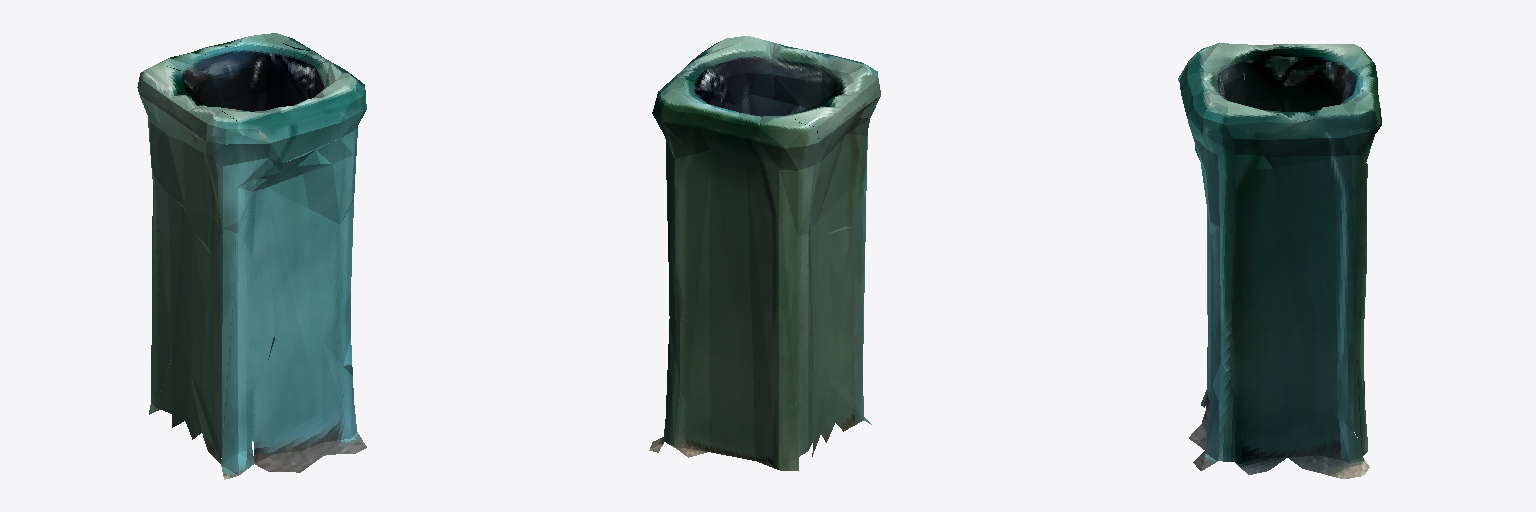
The picture shows the model from 3 angles: view 1: azimuth 30°, elevation 25°; view 2: azimuth 150°, elevation 25°; view 3: azimuth 270°, elevation 25°; orthographic projection.
Parts seen in each view (by area): view 1: poly; view 2: poly; view 3: poly.
Part boxes in pixels (x1,y1,x2,y2): poly: (137,33,366,479); poly: (649,36,880,470); poly: (1178,42,1381,478).
Bounding box in the file's own units: 0.3944 × 0.8196 × 0.416.
Materials: 1 (1 with a texture image).